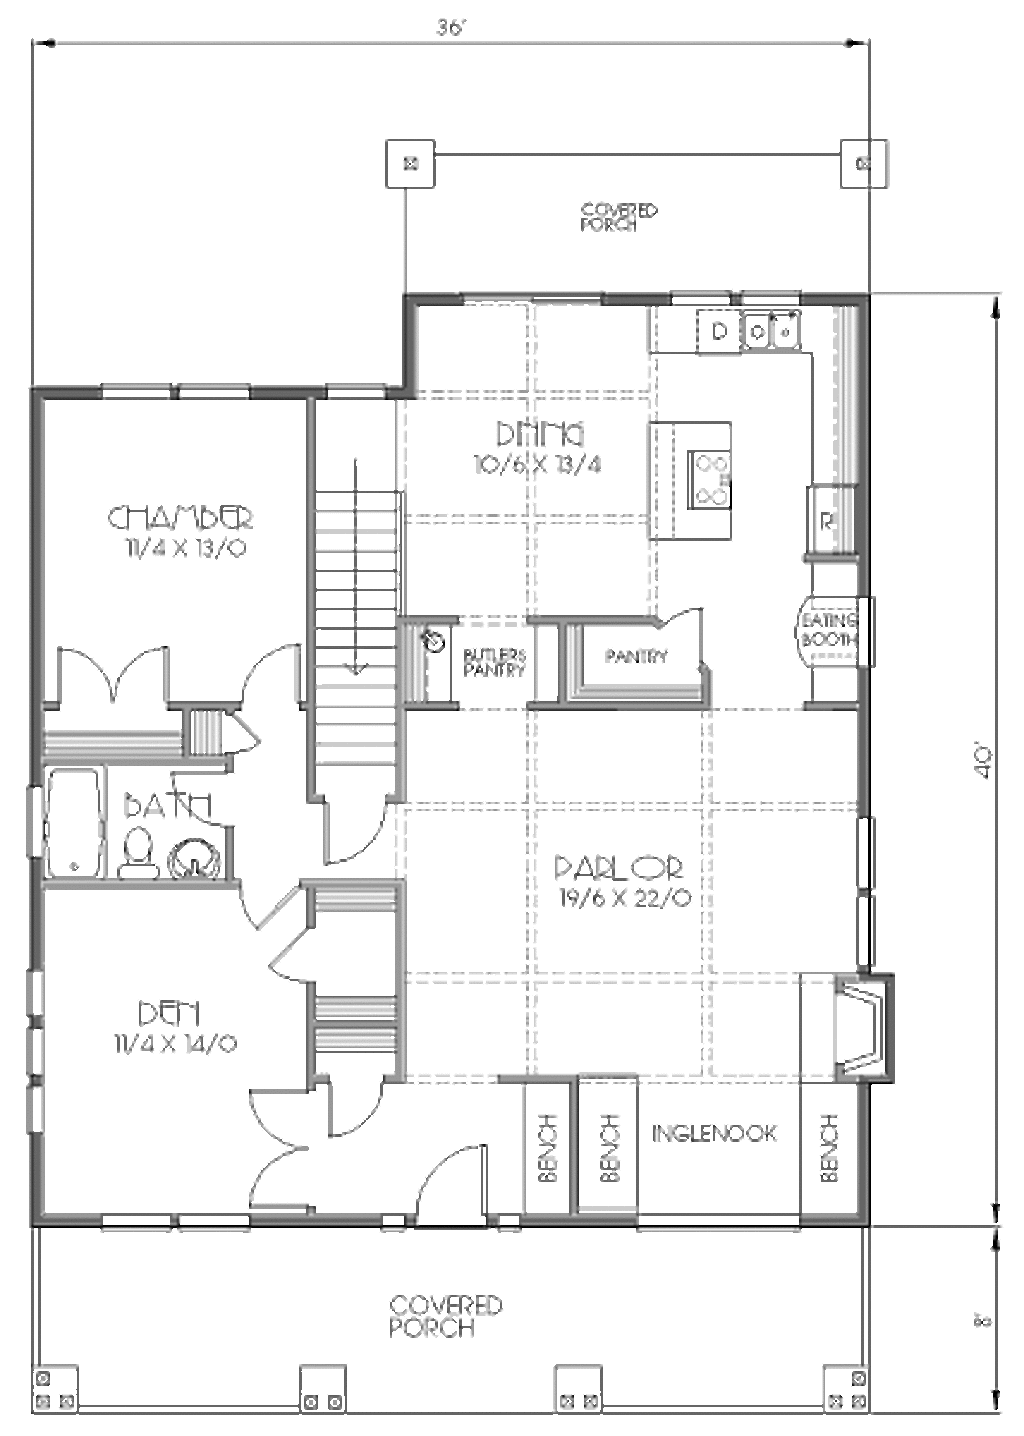door: (247, 1083, 328, 1218), (47, 639, 178, 707), (400, 1143, 493, 1222), (231, 644, 313, 715), (319, 796, 393, 868), (328, 1061, 395, 1139), (240, 878, 297, 929), (269, 933, 324, 985)
kitchen_bar: (654, 407, 745, 538)
large_sink: (121, 816, 158, 888)
small_sink: (154, 824, 231, 881)
stairs: (306, 459, 417, 796)
tub: (45, 768, 115, 878)
window: (93, 378, 263, 413), (24, 970, 54, 1137), (95, 1198, 180, 1235), (187, 1206, 252, 1247)
